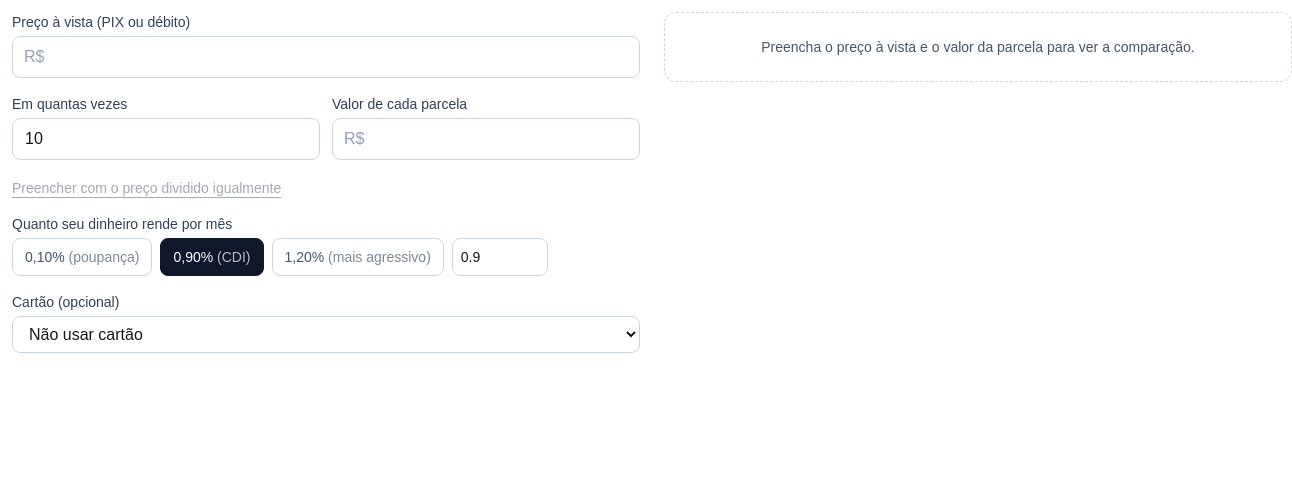
SimulatorForm — juros escondidos › mostra a taxa ao mes e ao ano quando o parcelado e mais caro
The image size is (1292, 498).
Type "100000" into the field labelled "Preço à vista (PIX ou débito)" at (326, 57), box [12,36,640,78]
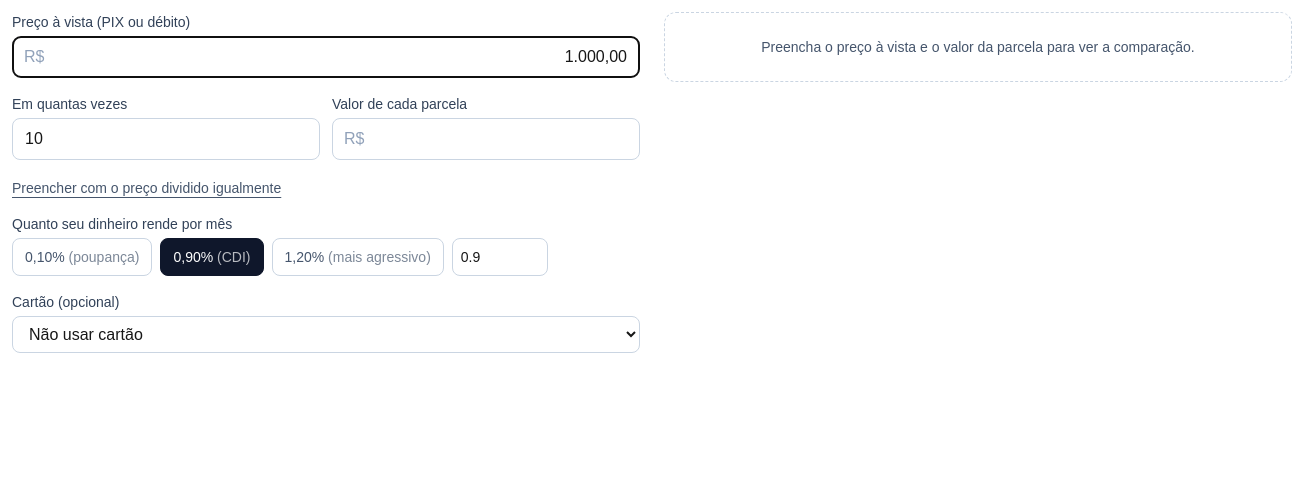
Type "12000" into the field labelled "Valor de cada parcela" at (486, 139), box [332,118,640,160]
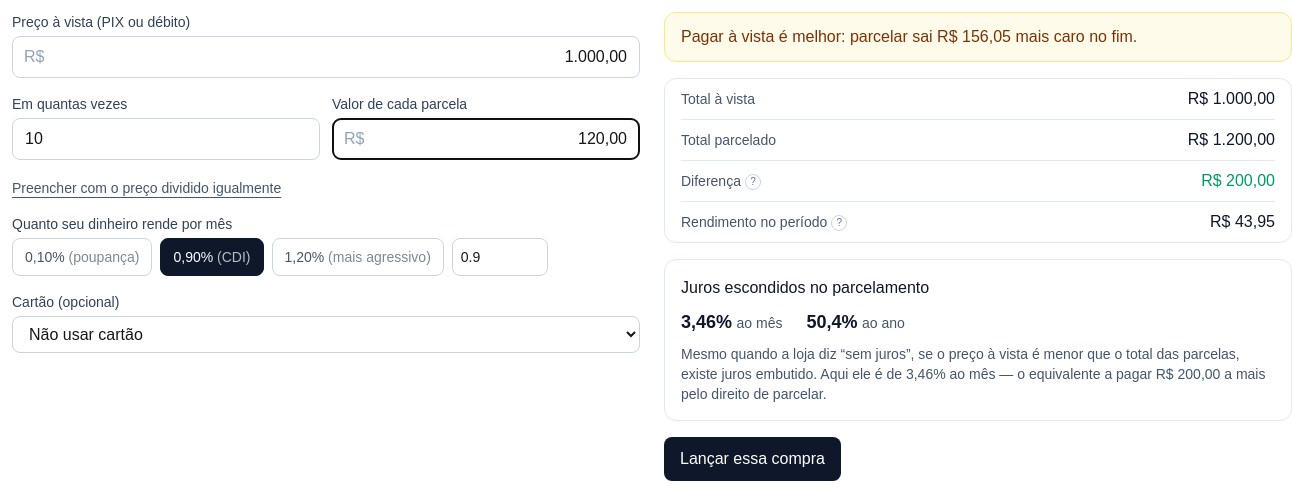
Result: the text "ao mês" is shown at [736,315,782,331]
Result: the text "ao ano" is shown at [862,315,905,331]
Result: the text "loja diz" is shown at [681,346,1240,382]
